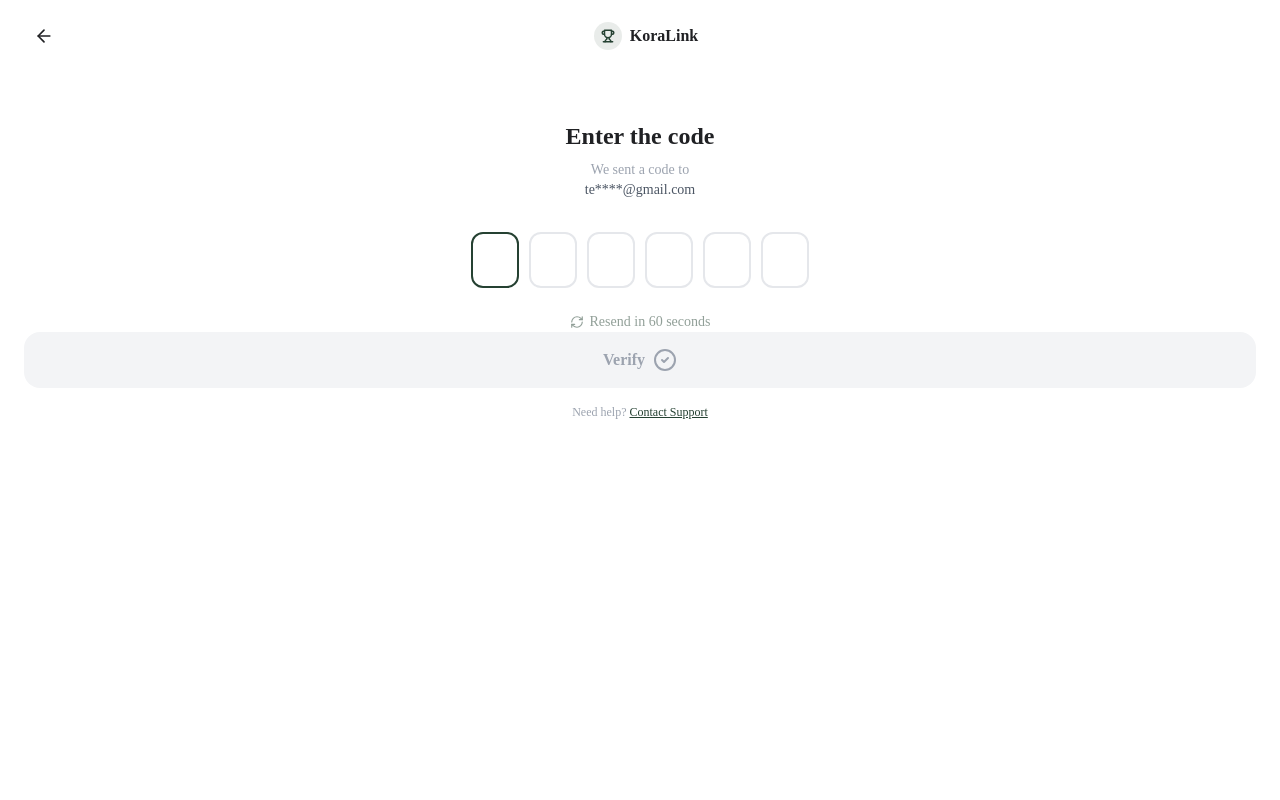
Scenario: verify page — failure UX › shows rateLimited copy (not generic) on a 429 verify
Type "1" into the 1st field at coordinates (495, 260), box [471,232,519,288]
Type "2" into the 2nd field at coordinates (553, 260), box [529,232,577,288]
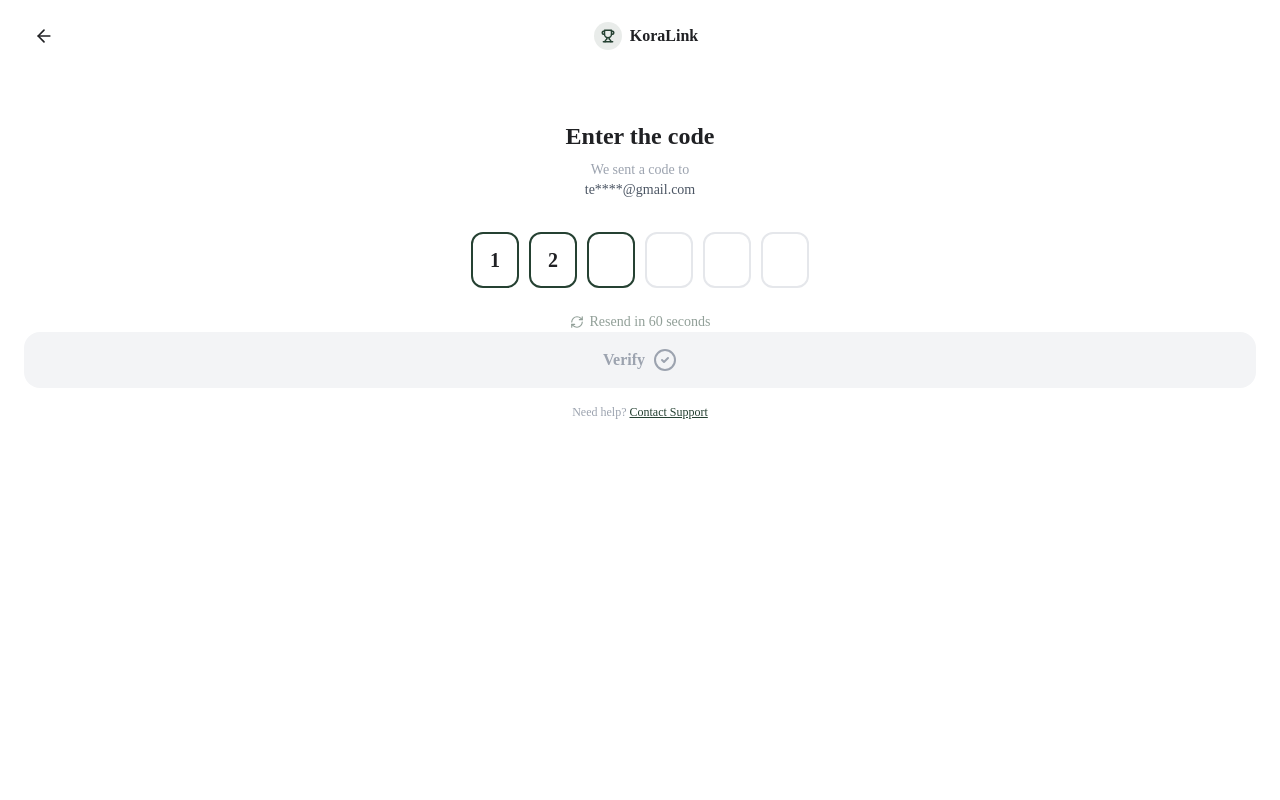
Type "3" into the 3rd field at coordinates (611, 260), box [587,232,635,288]
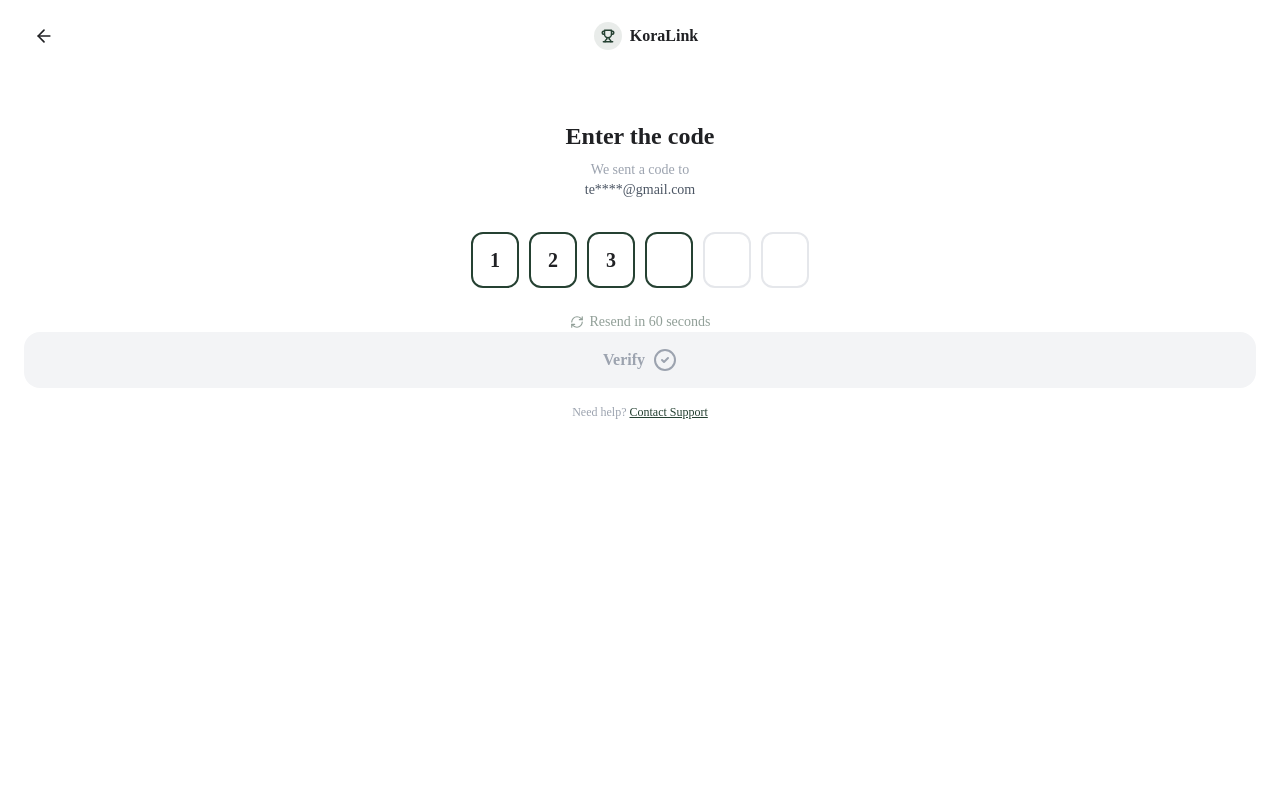
Type "4" into the 4th field at coordinates (669, 260), box [645,232,693,288]
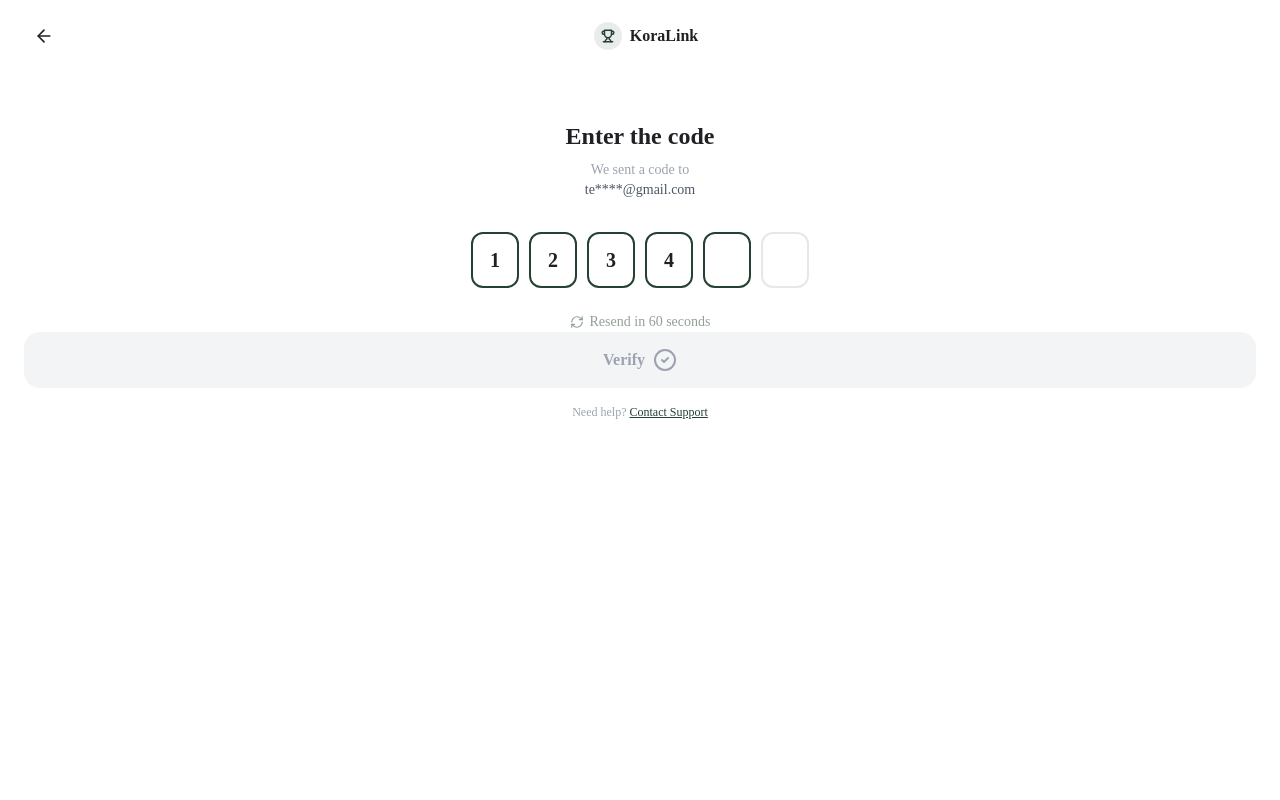
Type "5" into the 5th field at coordinates (727, 260), box [703,232,751,288]
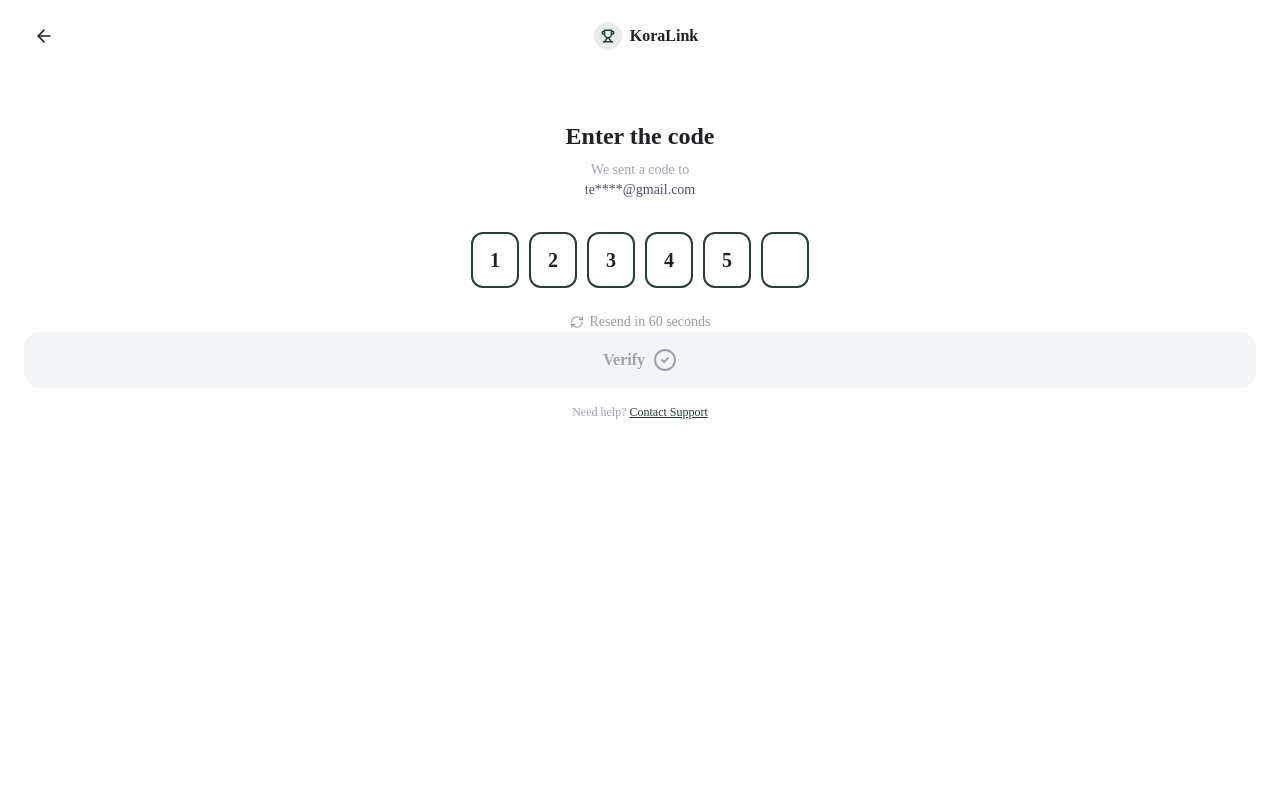
Type "6" into the 6th field at coordinates (785, 260), box [761,232,809,288]
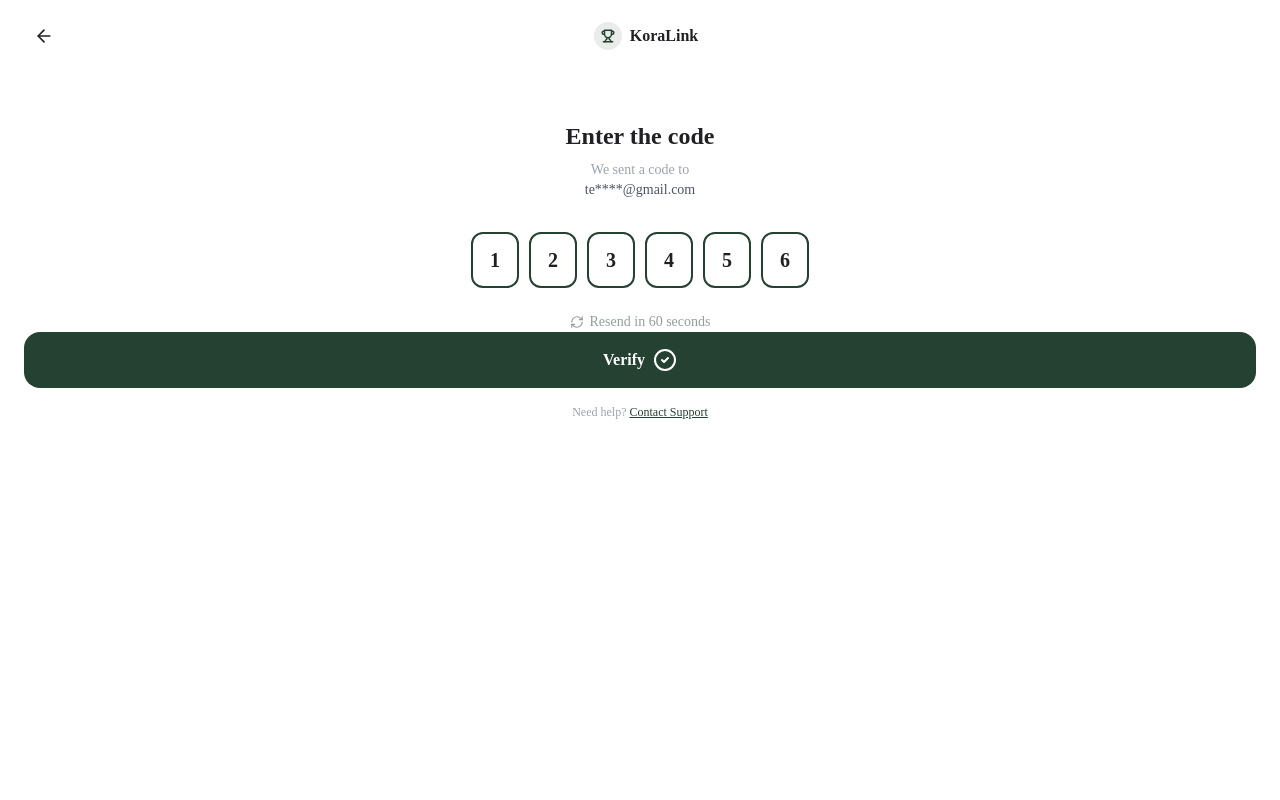
Click the button "Verify" at coordinates (640, 360), box [24,332,1256,388]
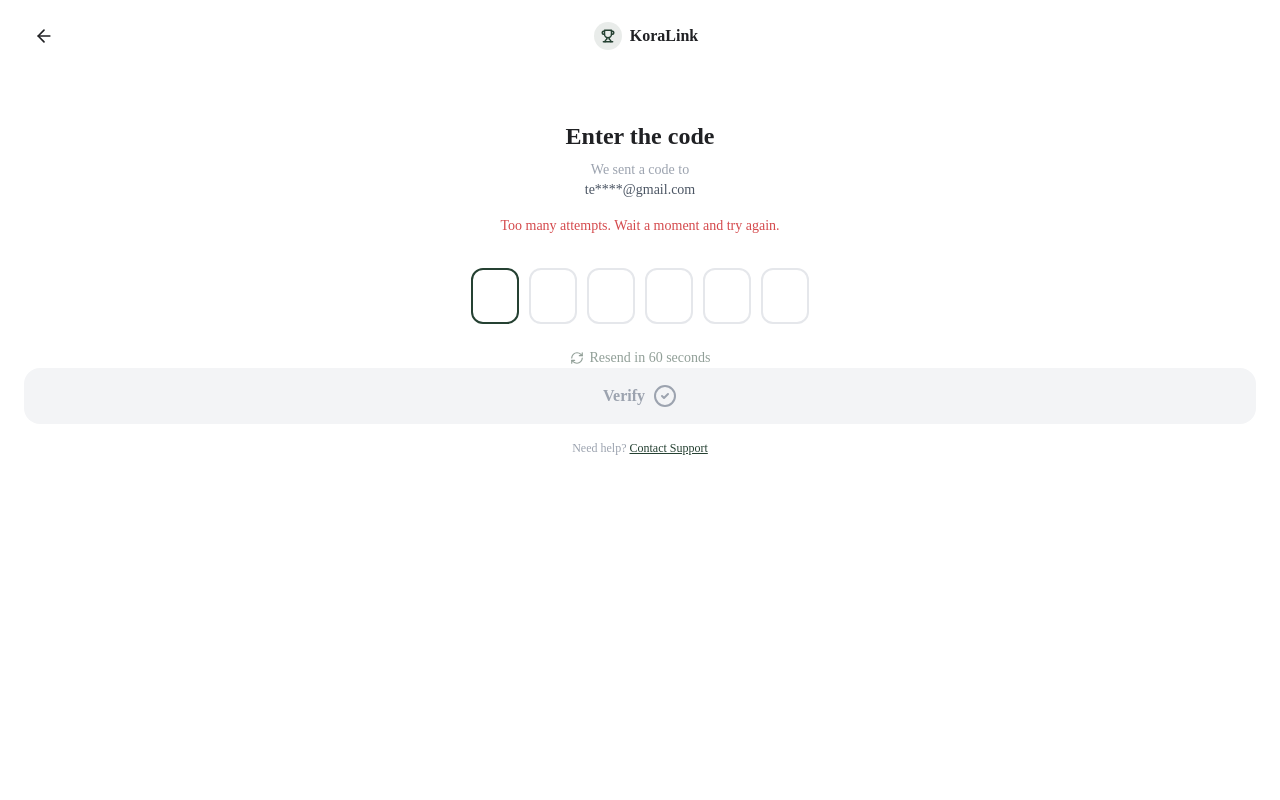
Expected: the text "Too many attempts. Wait a moment and try again." is shown, [500,216,780,236]
